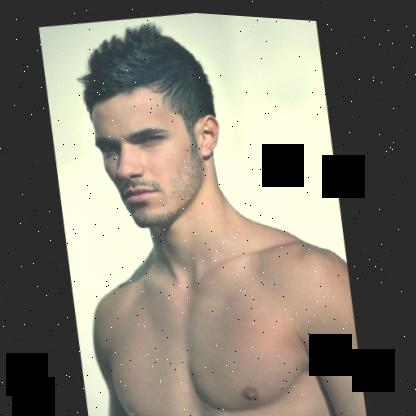Male: (80, 67, 233, 235)
